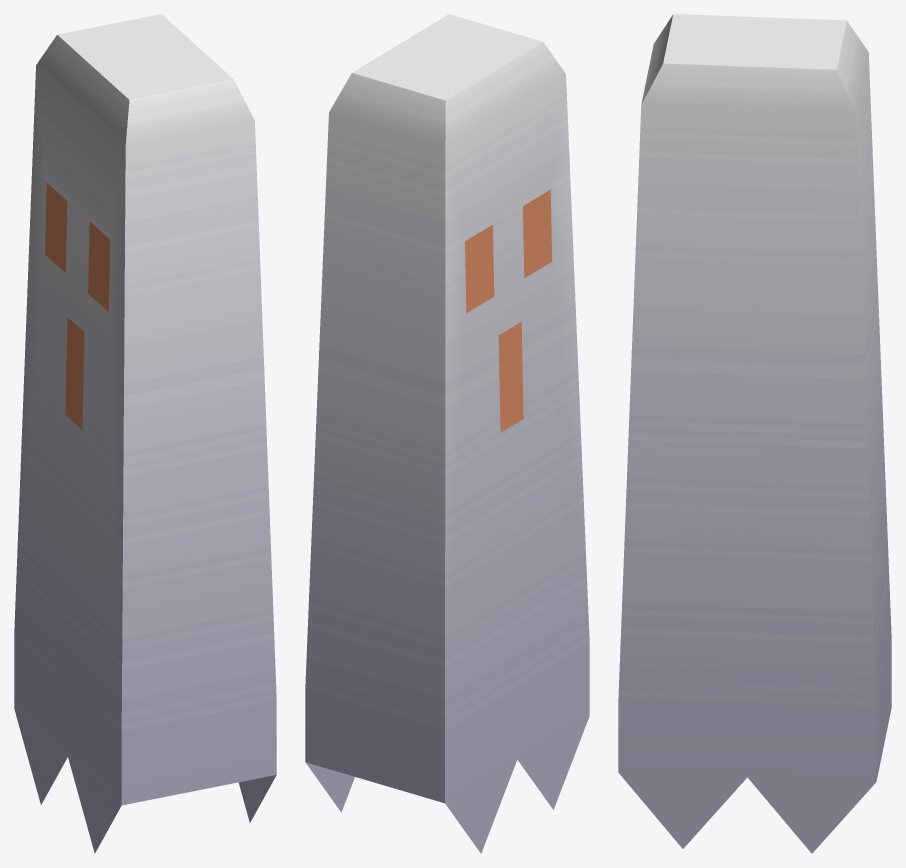
File: torso_lev2.glb
3 renders of one model, left to right at view 1: azimuth 30°, elevation 25°; view 2: azimuth 150°, elevation 25°; view 3: azimuth 270°, elevation 25°, orthographic. The views are drawn at different scales.
Parts seen in each view (by area): view 1: torso_lev2; view 2: torso_lev2; view 3: torso_lev2.
Part boxes in pixels (x1,y1,x2,y2): torso_lev2: (14, 14, 276, 853); torso_lev2: (305, 14, 589, 853); torso_lev2: (618, 14, 891, 853).
Size of the model in its own units: 0.7586 by 3.29 by 1.05.
Materials: 1 (1 with a texture image).
